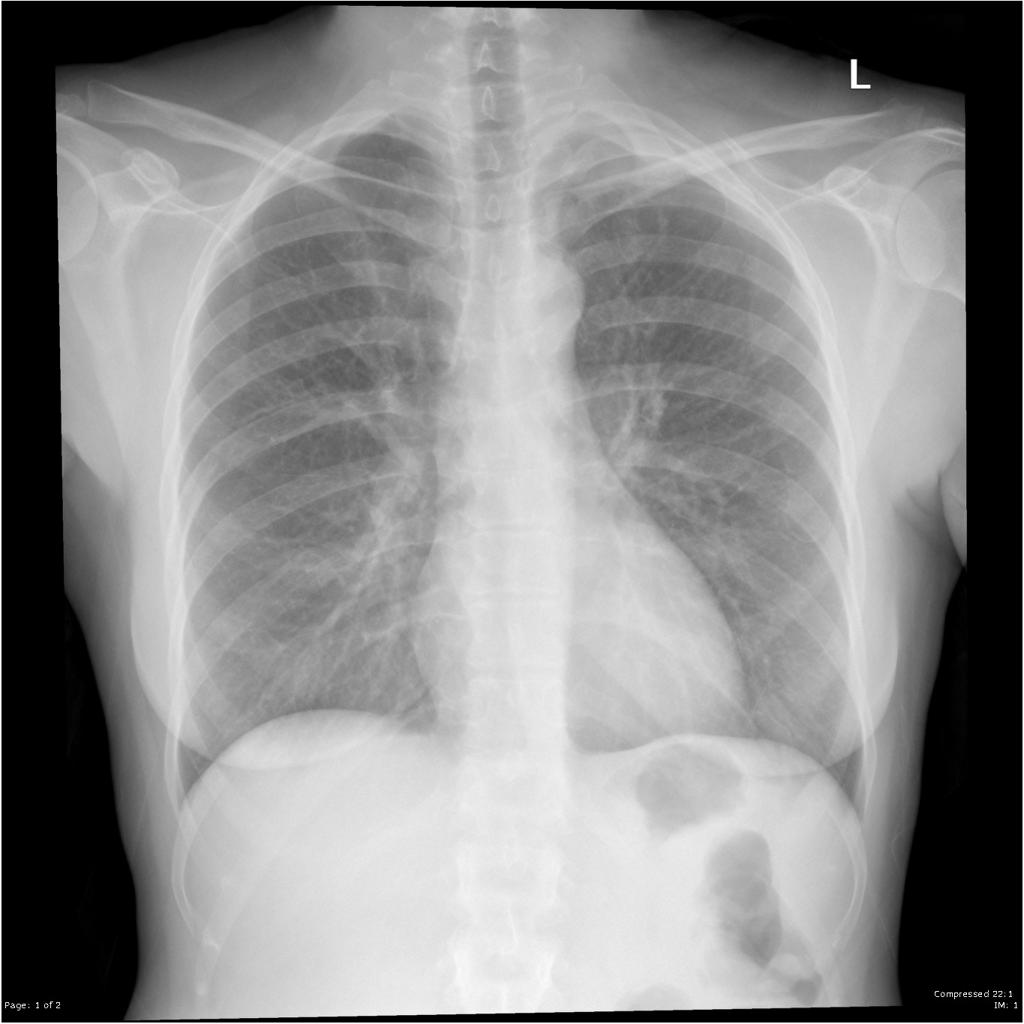cancer: (156, 199, 437, 712)
